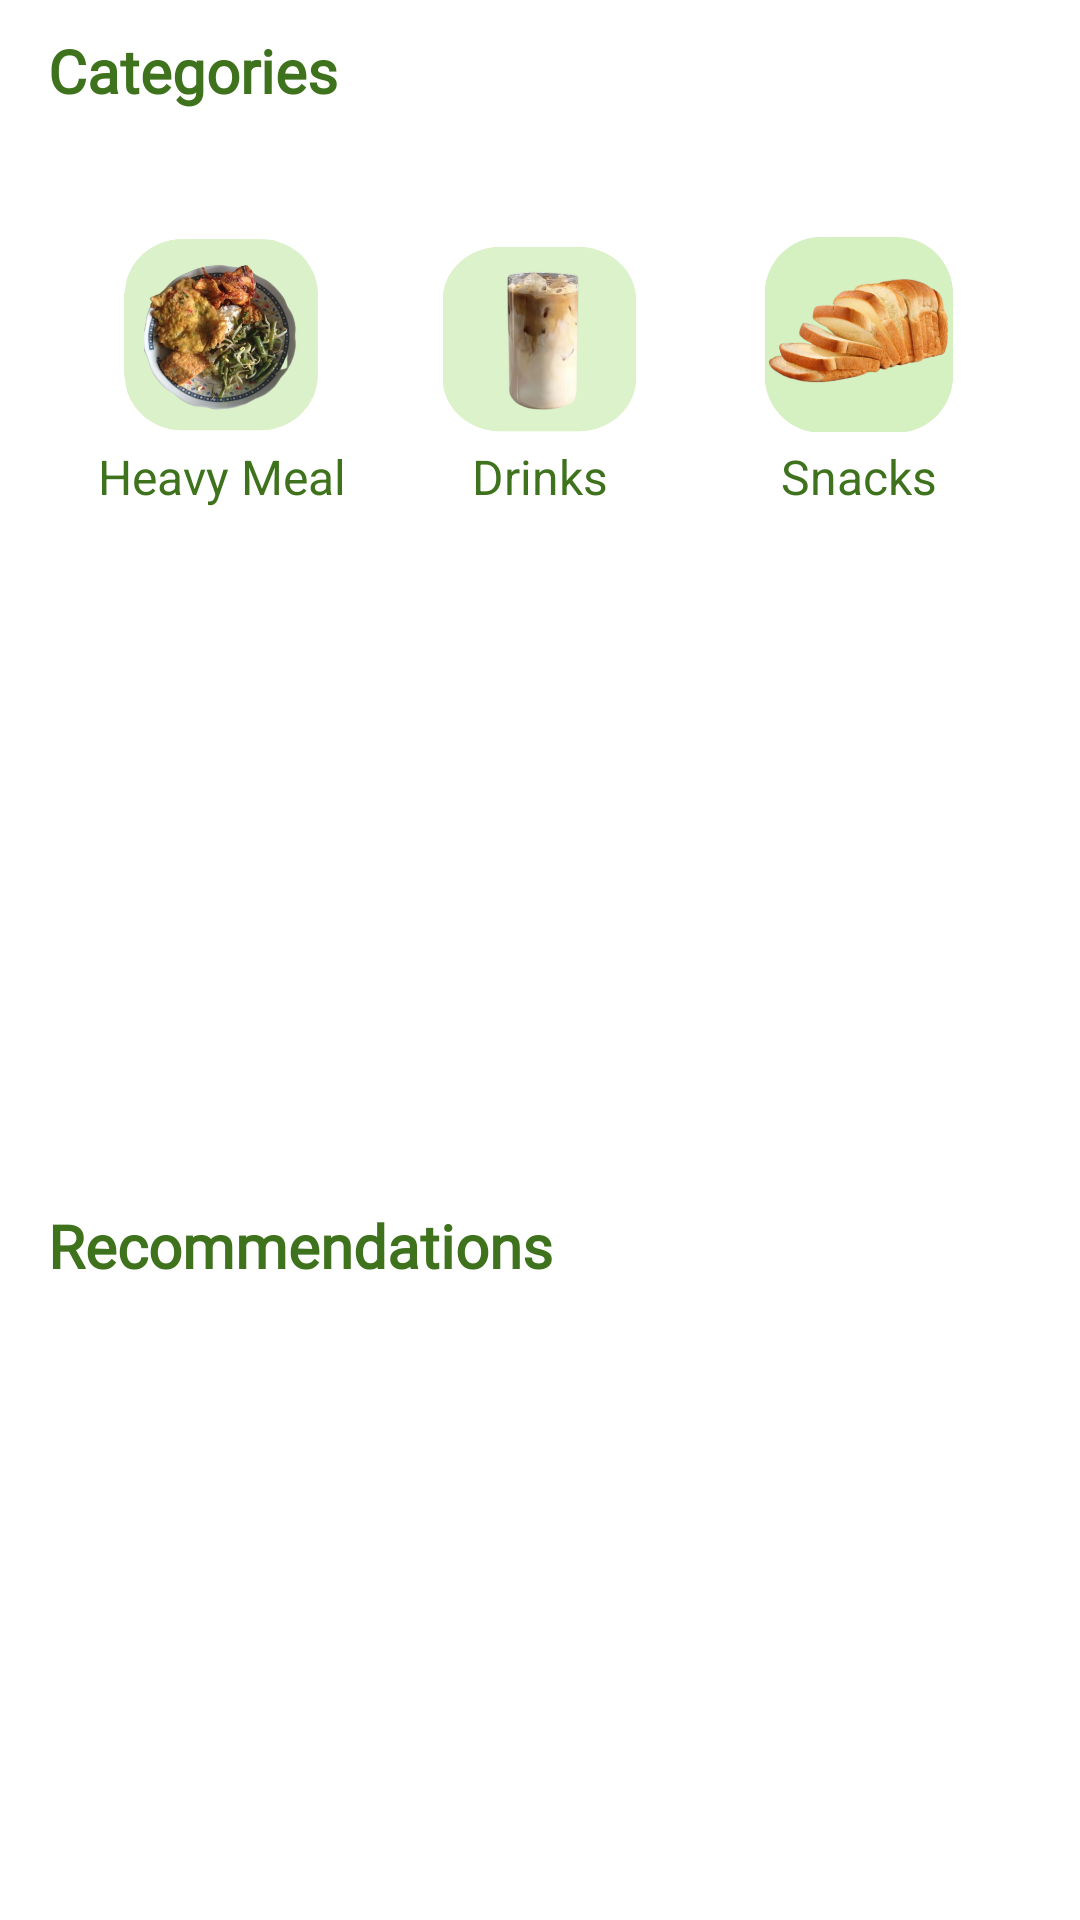

Icon bounding boxes for this 1080 x 1920 phone screenshot, format bbox(x1, y1, x2, y2):
bread: bbox(765, 237, 953, 432)
